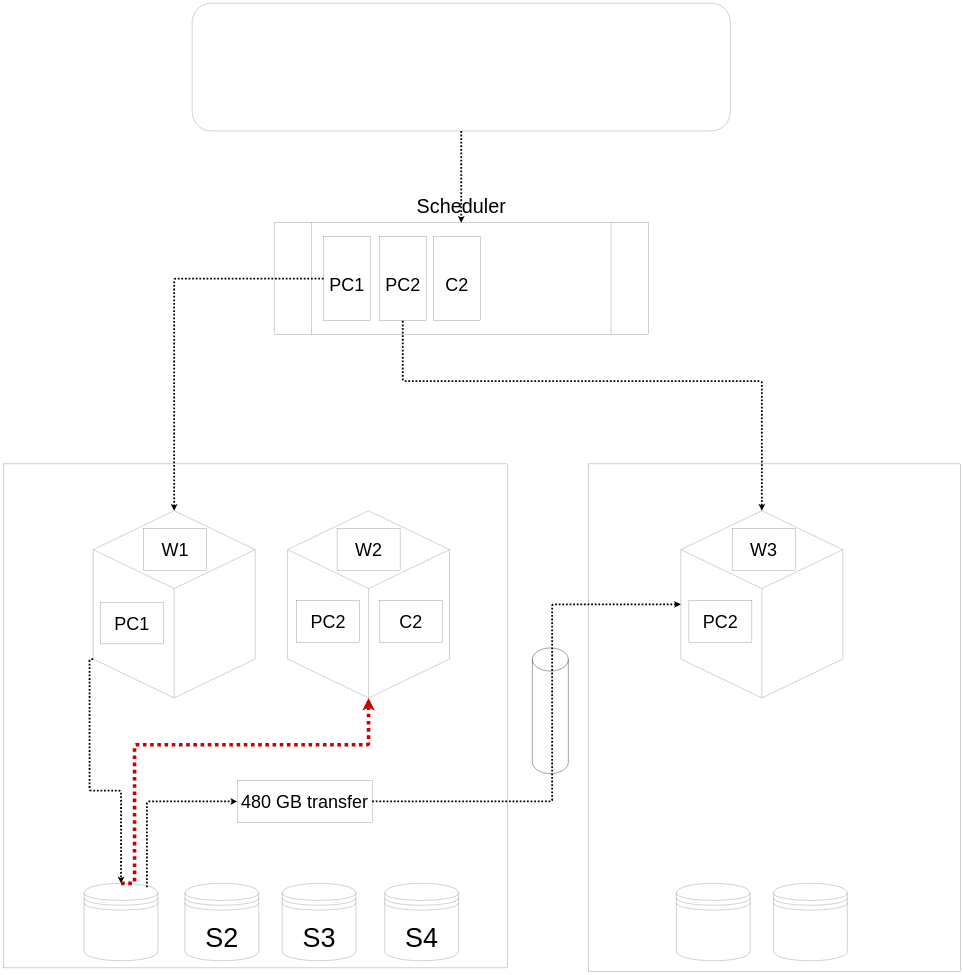
Image size: 964x975. Some labels were removed from this diagram. The box of each missing label's shape, as (x1, y1, x2, y2) in pixels:
Miner: (192, 3, 730, 131)
Network: (532, 648, 568, 774)
S1: (84, 883, 158, 961)
Server 1: (3, 464, 507, 968)
Server 2: (588, 464, 961, 972)
